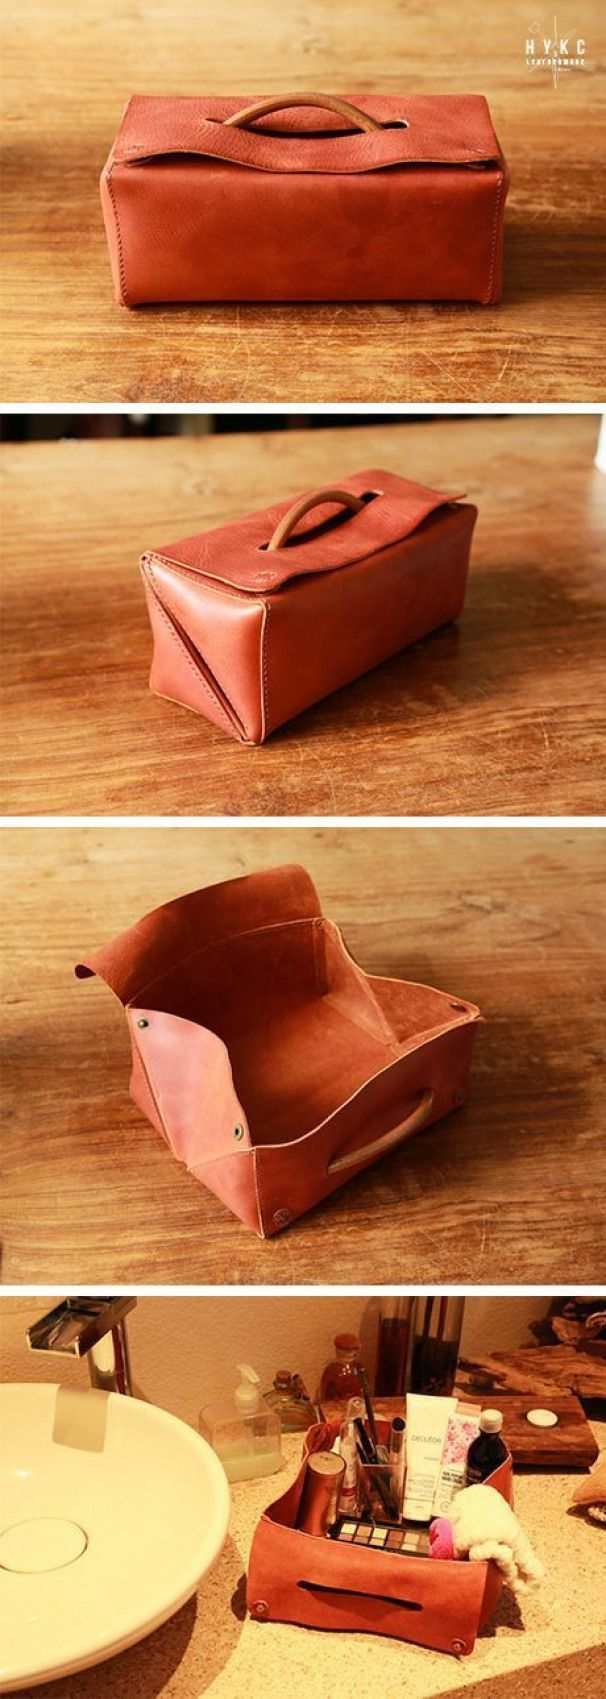cuero: (70, 94, 520, 1658)
